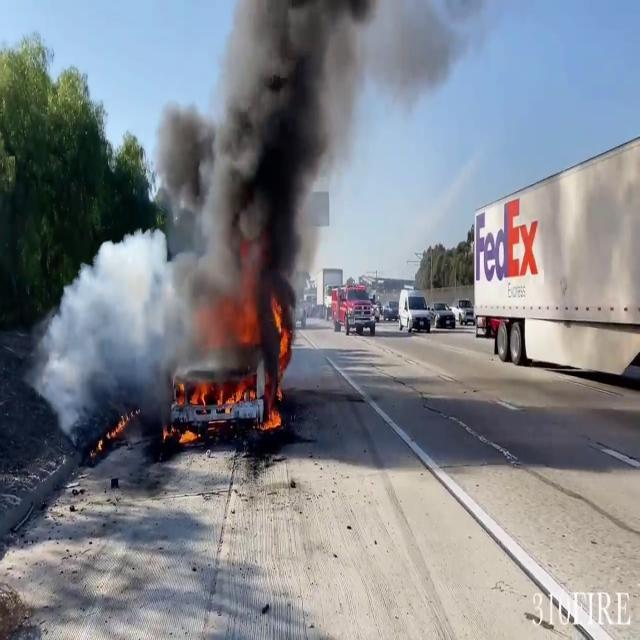Fire: (269, 292, 293, 374)
Smoke: (180, 0, 370, 393), (36, 221, 204, 447)
